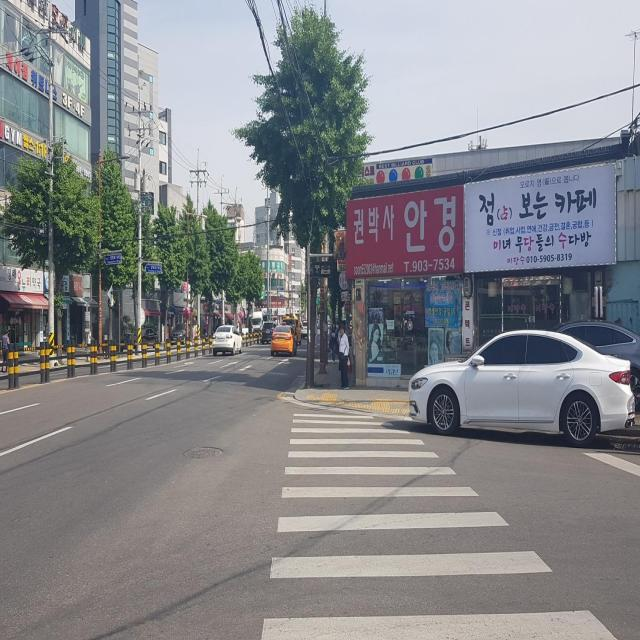횡단보도: (259, 408, 621, 640)
